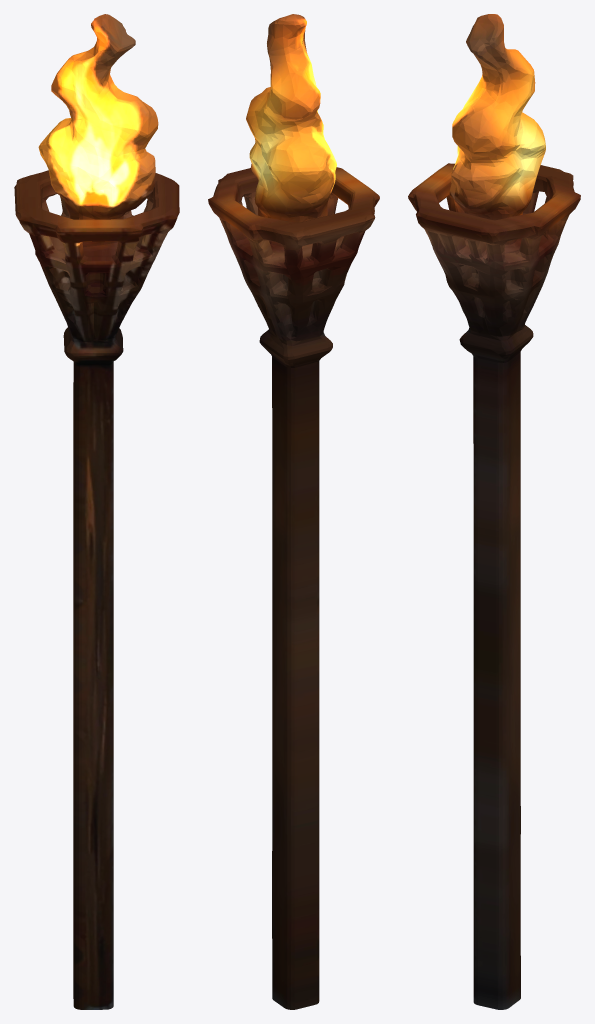
Rendered from torch_post.glb.
The picture shows the model from 3 angles, left to right: view 1: azimuth 30°, elevation 25°; view 2: azimuth 150°, elevation 25°; view 3: azimuth 270°, elevation 25°; orthographic projection.
Parts seen in each view (by area): view 1: torch_post; view 2: torch_post; view 3: torch_post.
Part boxes in pixels (x1,y1,x2,y2): torch_post: [14, 14, 179, 1009]; torch_post: [208, 14, 379, 1009]; torch_post: [408, 14, 580, 1009].
Bounding box in the file's own units: 0.3991 × 2.4 × 0.3805.
Materials: 1 (1 with a texture image).
